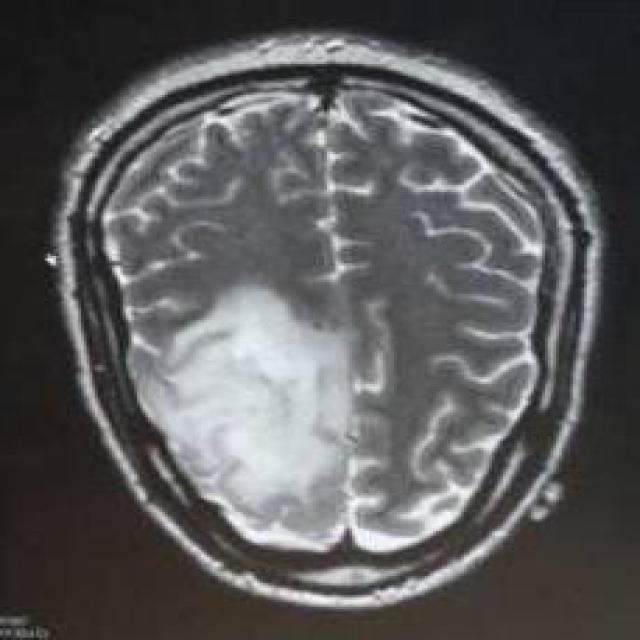brain tumor: (126, 287, 349, 555)
